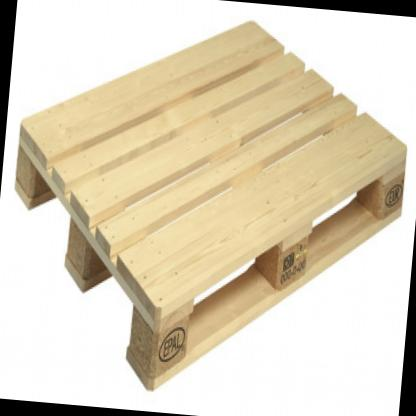BoxFace: (12, 17, 407, 391)
